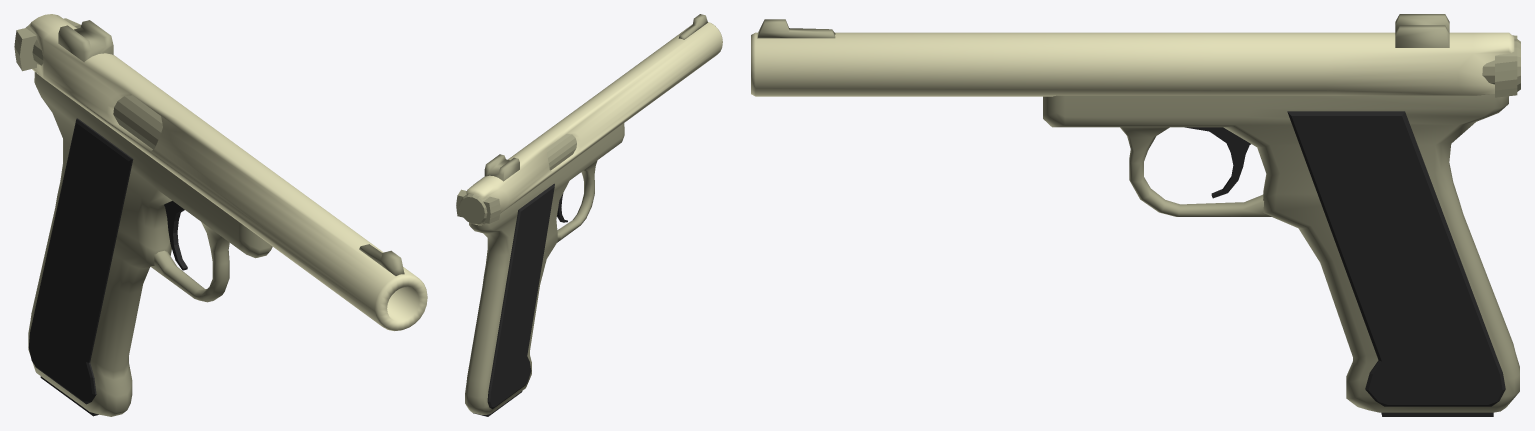
Rendered from ruger.glb.
3 views of the same model, side by side, from view 1: azimuth 30°, elevation 25°; view 2: azimuth 150°, elevation 25°; view 3: azimuth 270°, elevation 25° (orthographic). The views are drawn at different scales.
Parts seen in each view (by area): view 1: ruger; view 2: ruger; view 3: ruger.
Part boxes in pixels (x1,y1,x2,y2): ruger: (14,14,427,416); ruger: (456,14,722,416); ruger: (751,14,1520,416).
Size of the model in its own units: 0.0251 by 0.1384 by 0.248.
6 materials, 6 textured.
